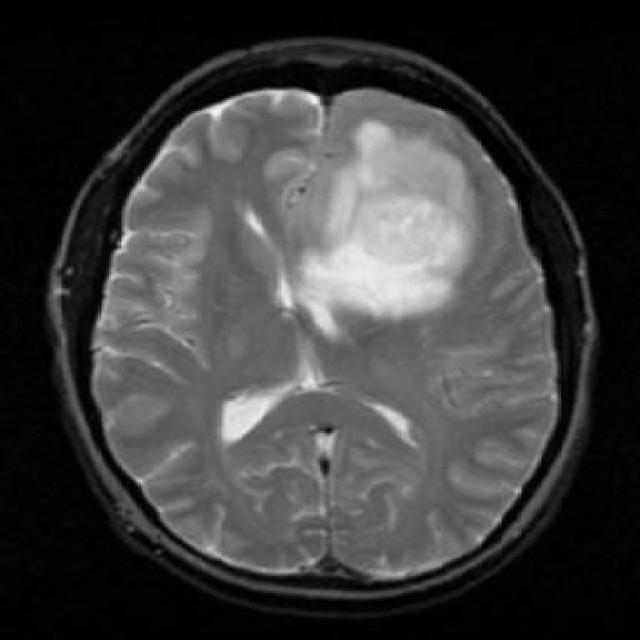Tumor-Cell: (298, 106, 444, 320)
